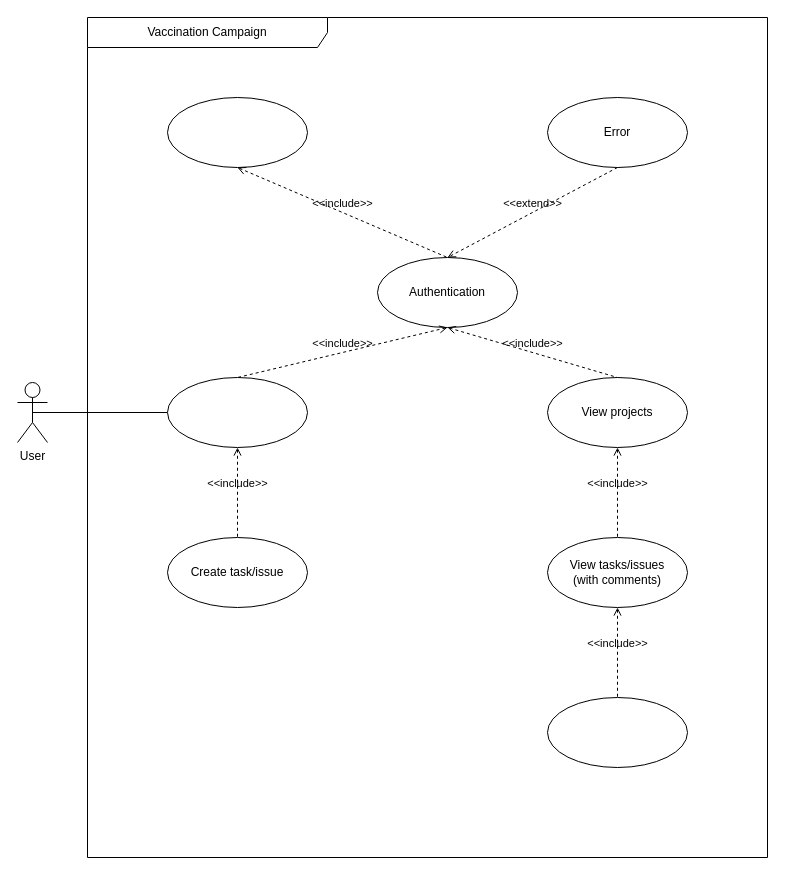
This 785x875 diagram has some shape labels left out. Each missing label, with the centre of its shape:
"Create project" goes at point 237,412.
"Manage comments" goes at point 617,732.
"Verification" goes at point 237,132.
